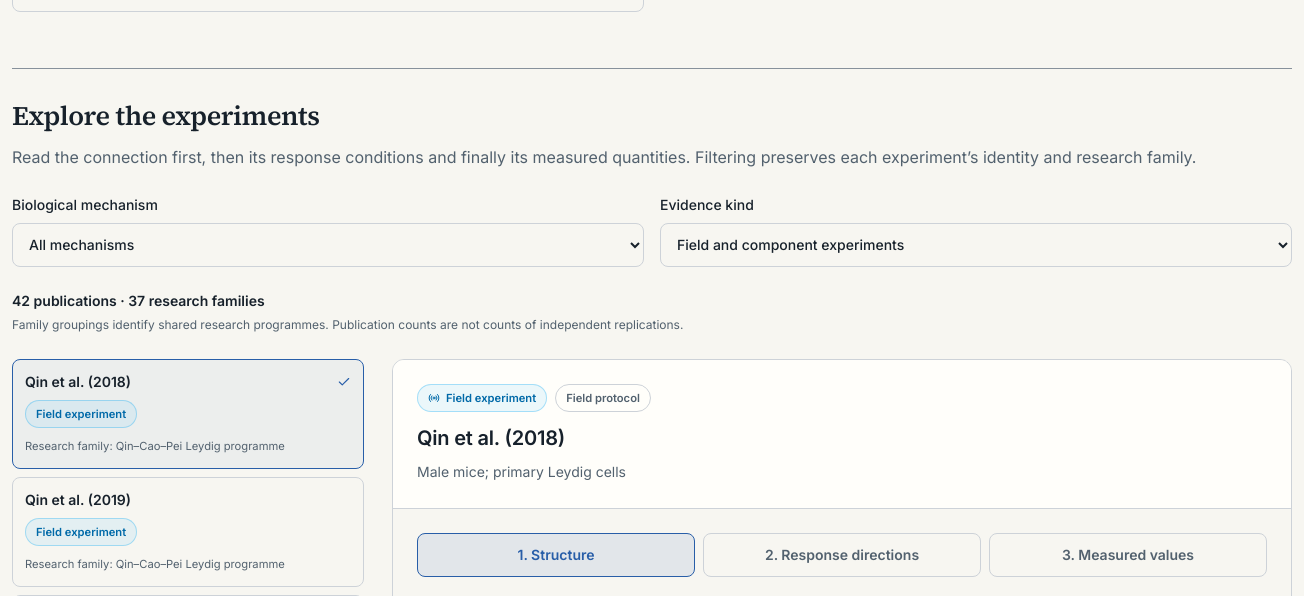
Test: SteroidogenesisEvidenceExplorer › filters by mechanism and evidence kind without carrying a field protocol into a component experiment
(page scrolled)
Select "Redox reserve and challenge" in the dropdown labelled "Biological mechanism": (328, 245) left=12, top=223, right=644, bottom=267
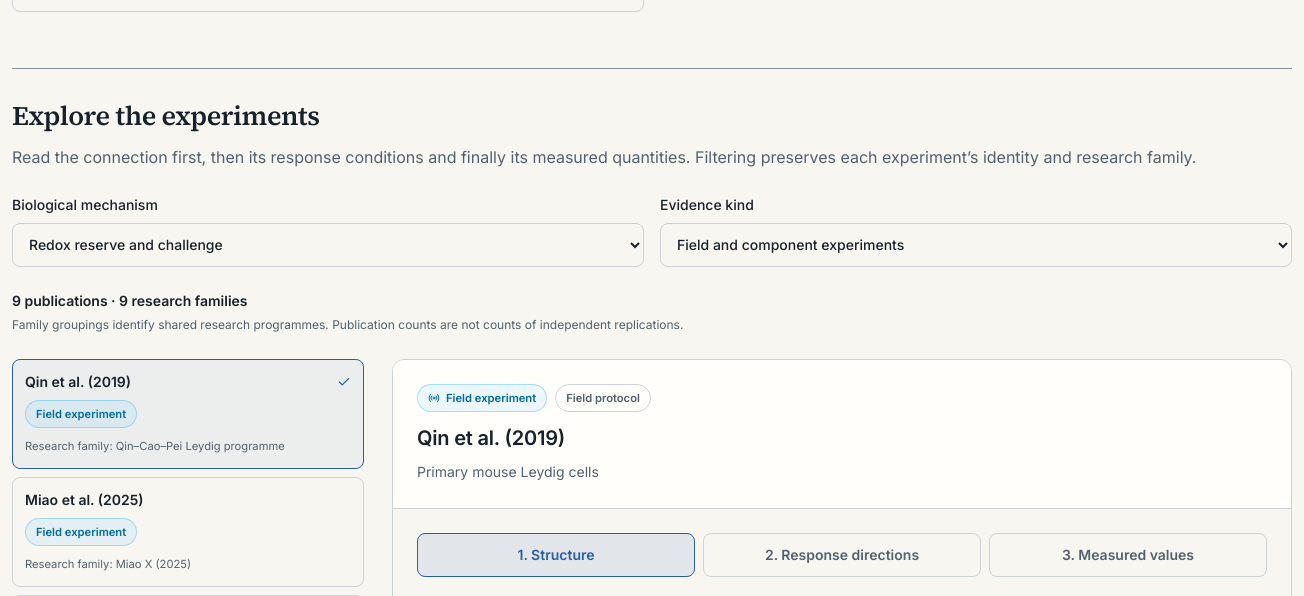
Select "Component experiment" in the dropdown labelled "Evidence kind": (976, 245) left=660, top=223, right=1292, bottom=267
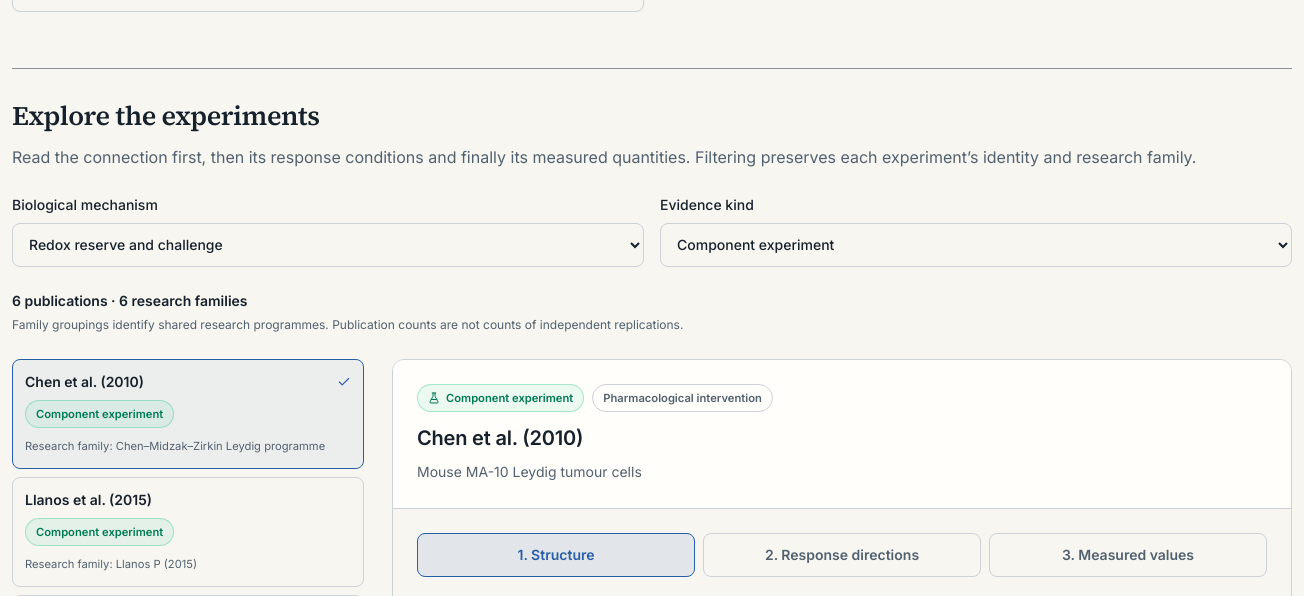
Click the button "3. Measured values": (1128, 555) left=989, top=533, right=1267, bottom=577
(page scrolled)
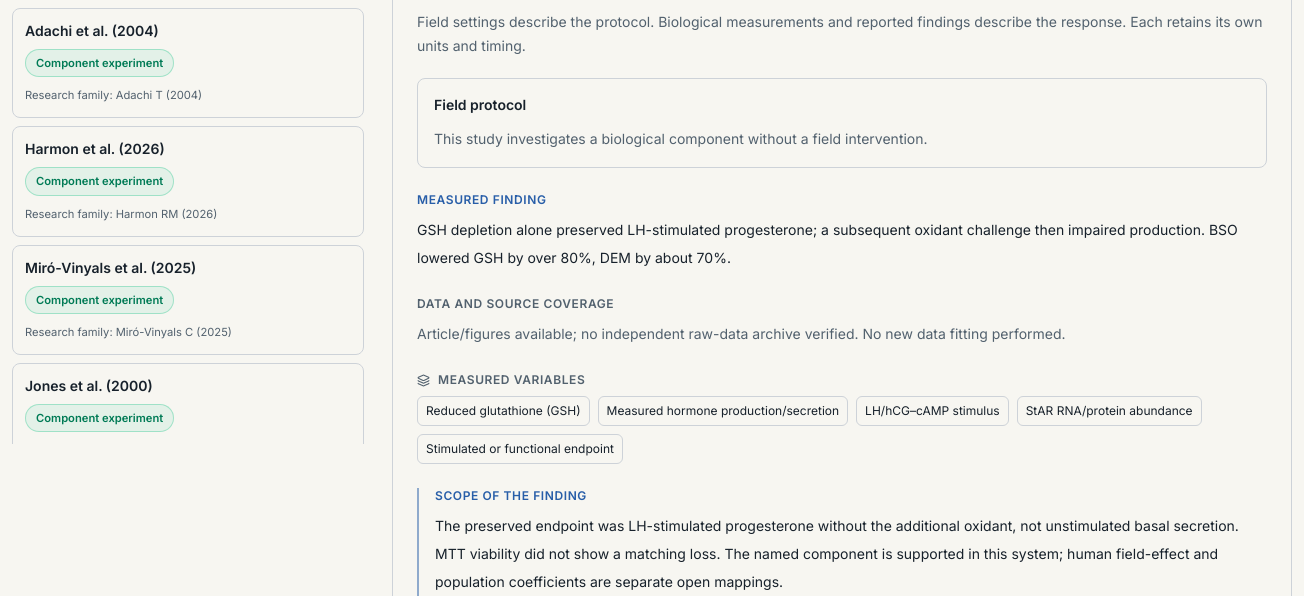
Check: the text "This study investigates a biological component without a field intervention." is shown, box left=434, top=130, right=928, bottom=147
Check: the text "GSH depletion alone preserved LH-stimulated progesterone; a subsequent oxidant challenge then impaired production. BSO l" is shown, box left=417, top=221, right=1238, bottom=266
